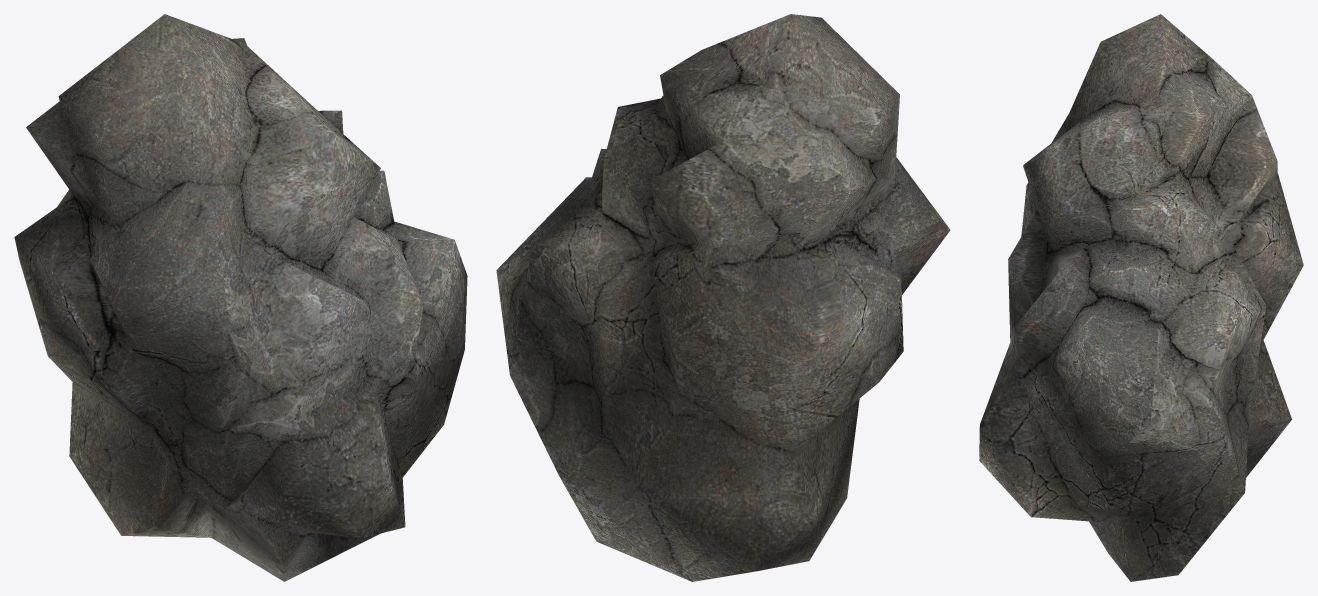
The model's file is Rock1.FBX.
The picture shows the model from 3 angles, left to right: view 1: azimuth 30°, elevation 25°; view 2: azimuth 150°, elevation 25°; view 3: azimuth 270°, elevation 25°; orthographic projection. The views are drawn at different scales.
Parts seen in each view (by area): view 1: rocko02; view 2: rocko02; view 3: rocko02.
Boxes of the visible parts, left/top/right/bottom form: rocko02: left=14, top=14, right=467, bottom=581; rocko02: left=496, top=14, right=950, bottom=581; rocko02: left=979, top=14, right=1303, bottom=581.
Bounding box in the file's own units: 271 × 373 × 216.
Materials: 1 (1 with a texture image).
